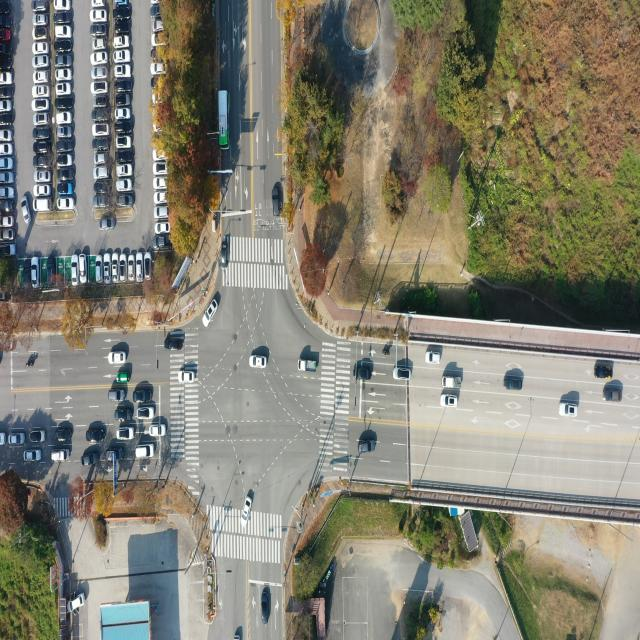car: (68, 592, 86, 616), (204, 300, 218, 328), (240, 497, 250, 526), (393, 366, 411, 381), (354, 366, 372, 381), (603, 389, 622, 403), (88, 429, 107, 443), (503, 378, 522, 392), (560, 404, 578, 418), (593, 366, 611, 380), (32, 195, 50, 209), (220, 238, 228, 269), (135, 446, 154, 459), (56, 94, 72, 109), (262, 588, 269, 622), (134, 391, 152, 404), (114, 410, 132, 423), (81, 454, 99, 467), (144, 251, 152, 280), (46, 258, 54, 287), (22, 199, 31, 224), (56, 26, 72, 40), (70, 258, 78, 286), (0, 243, 16, 257), (114, 6, 130, 20), (358, 442, 375, 455), (34, 129, 51, 142), (128, 256, 136, 283), (32, 260, 39, 290), (115, 94, 130, 108), (109, 352, 125, 365), (114, 66, 130, 79), (92, 9, 108, 22), (112, 36, 128, 49), (94, 125, 110, 138), (93, 54, 109, 67), (57, 56, 73, 69), (58, 428, 74, 441), (58, 156, 74, 169), (100, 218, 116, 231), (34, 142, 50, 155), (114, 21, 130, 34), (25, 450, 42, 462), (166, 341, 183, 353), (115, 124, 132, 136), (55, 11, 72, 23), (273, 186, 280, 215), (106, 450, 124, 461), (136, 253, 143, 281), (79, 255, 86, 283), (112, 256, 119, 284), (152, 33, 166, 47), (114, 52, 129, 65), (34, 57, 49, 70), (58, 112, 73, 125), (155, 237, 170, 250), (58, 199, 74, 211), (152, 424, 168, 436), (250, 356, 266, 368), (442, 395, 458, 407), (8, 433, 24, 445), (116, 180, 132, 192), (179, 372, 195, 384), (116, 196, 132, 208), (116, 428, 132, 440), (108, 390, 124, 402), (33, 100, 49, 112), (33, 87, 49, 99), (30, 430, 46, 442), (56, 69, 72, 81), (58, 140, 74, 152), (92, 26, 108, 38), (59, 170, 75, 182), (138, 409, 154, 421), (0, 56, 12, 72), (118, 256, 125, 283), (96, 257, 103, 284), (0, 73, 13, 87), (0, 186, 14, 199), (116, 137, 130, 150), (34, 42, 48, 55), (150, 63, 164, 76), (150, 48, 164, 61), (115, 108, 130, 120), (425, 352, 440, 364), (57, 85, 72, 97), (116, 166, 131, 178), (0, 27, 12, 42), (59, 184, 74, 196), (32, 0, 47, 12), (94, 140, 109, 152), (35, 185, 50, 197), (56, 0, 72, 11), (116, 152, 132, 163), (0, 101, 13, 114), (0, 159, 13, 172), (1, 87, 14, 100), (0, 173, 14, 185), (95, 168, 109, 180), (0, 131, 14, 143), (96, 198, 110, 210), (94, 68, 108, 80), (35, 172, 49, 184), (34, 72, 48, 84), (94, 84, 108, 96), (156, 208, 170, 220), (34, 13, 48, 25), (34, 158, 48, 170), (34, 113, 48, 125), (0, 42, 12, 56), (104, 256, 110, 284), (33, 28, 47, 40), (58, 128, 73, 139), (0, 1, 11, 16), (94, 109, 109, 120), (117, 80, 132, 91), (24, 261, 30, 288), (0, 144, 13, 156), (0, 14, 12, 27), (115, 374, 129, 385), (96, 182, 110, 193), (56, 40, 71, 50), (156, 178, 168, 190), (156, 192, 168, 204), (156, 164, 168, 176), (1, 217, 14, 228), (157, 222, 170, 233), (94, 39, 107, 50), (94, 98, 107, 109), (1, 232, 15, 242), (150, 6, 161, 17), (1, 116, 12, 127), (95, 156, 107, 166), (152, 22, 162, 33), (93, 0, 106, 7), (150, 77, 158, 88), (114, 0, 127, 6), (0, 432, 6, 445), (150, 0, 160, 6)
large_bus: (218, 92, 231, 148)
small_truck: (299, 359, 319, 372), (443, 377, 463, 390), (0, 196, 14, 212), (52, 450, 70, 462)
